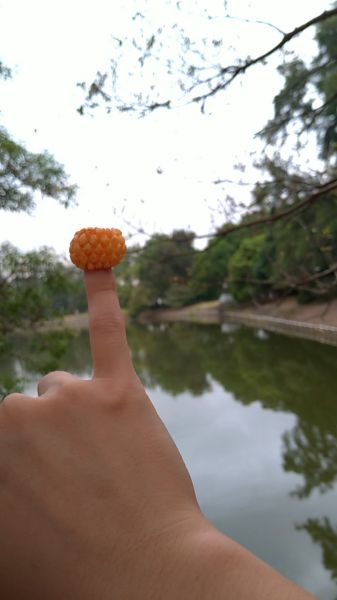eggs: (70, 228, 127, 271)
